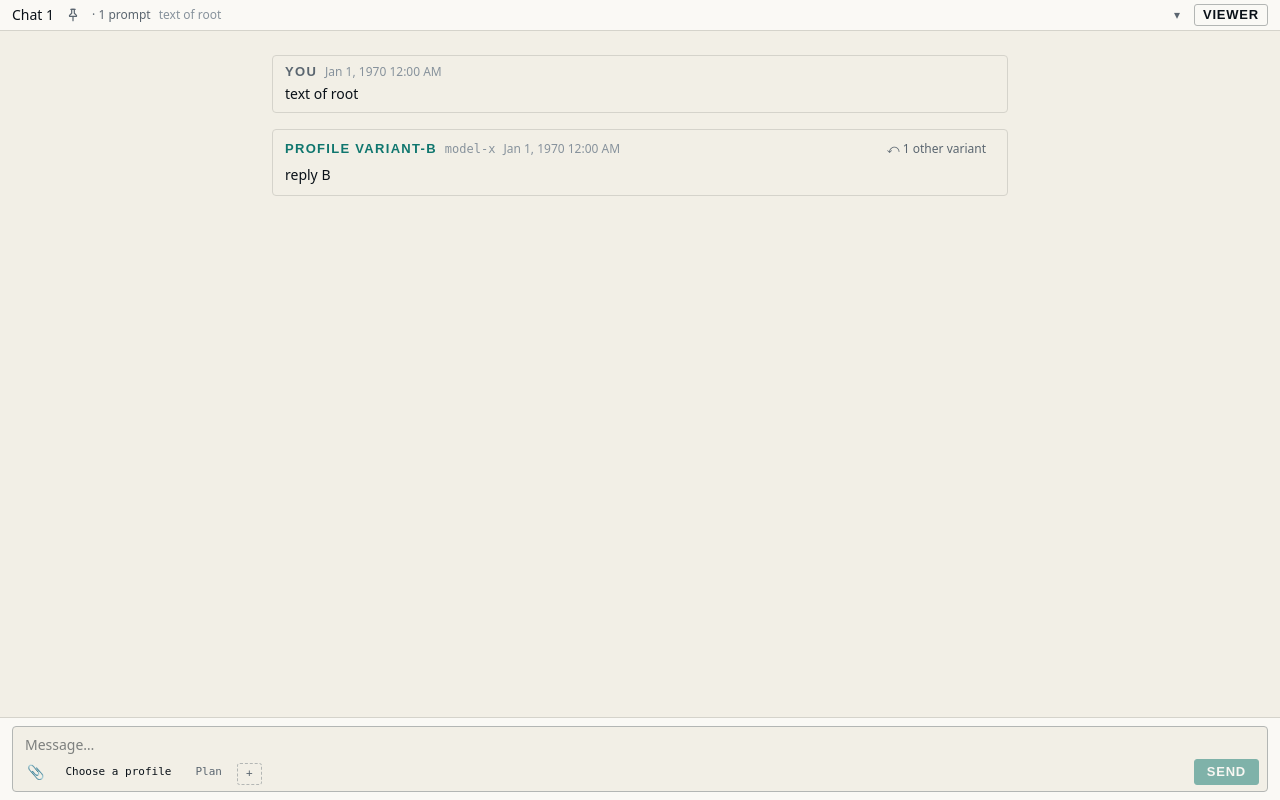
Scenario: Thread › a resolved compare turn (head already on one variant) renders as an ordinary message with a chip, which reopens the tab strip
Expected: the text "reply B" is shown, [285,165,330,184]
Step 1. Click the button with test id "reopen-variants-chip" → (936, 149), box [878,138,995,160]
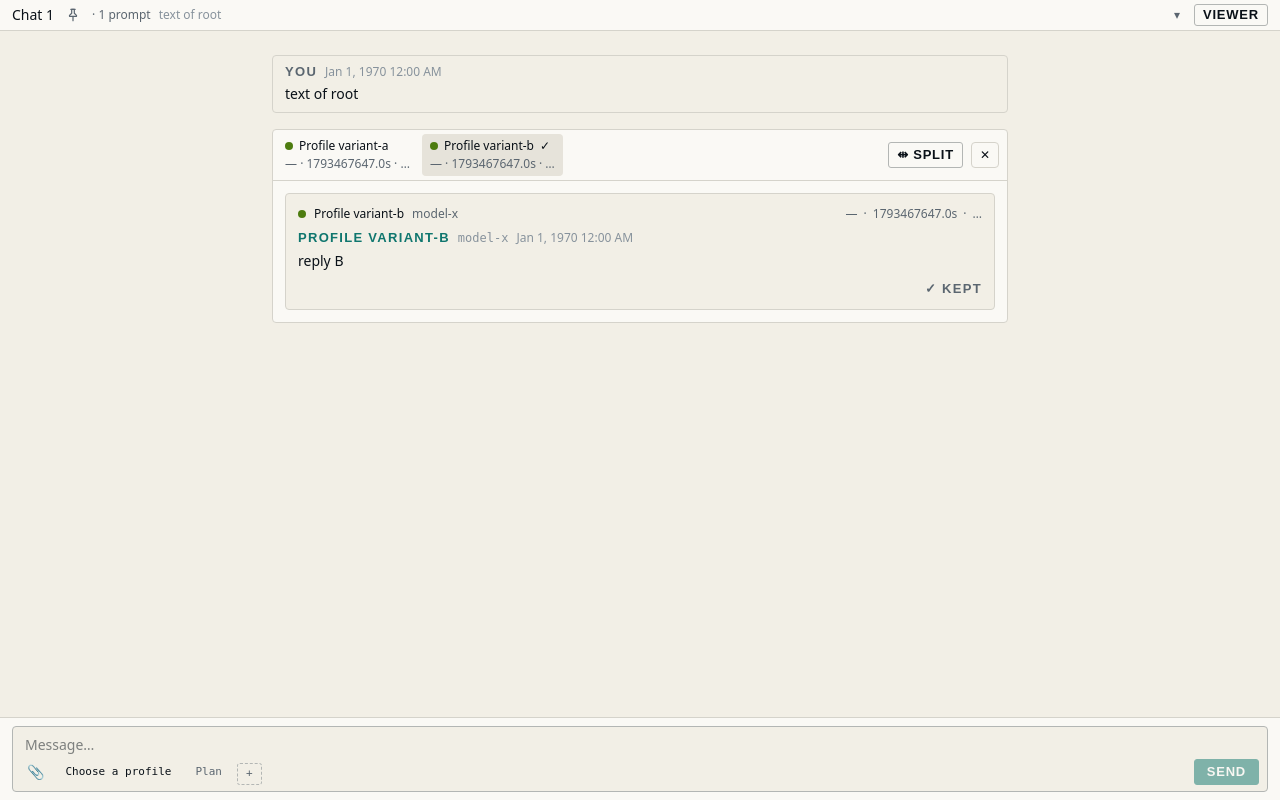
Result: the tab with test id "variant-tab-variant-a" is shown at [277,134,418,176]
Result: the tab with test id "variant-tab-variant-b" is shown at [422,134,563,176]
Result: the button named "collapse variants" is shown at [971,142,999,168]
